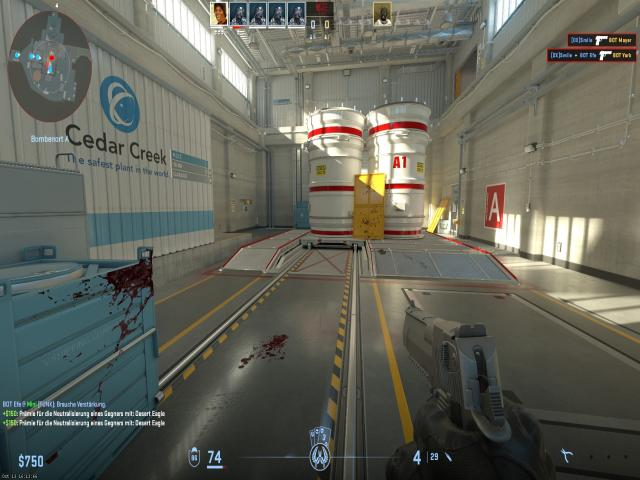Bomb: (377, 246, 388, 255)
